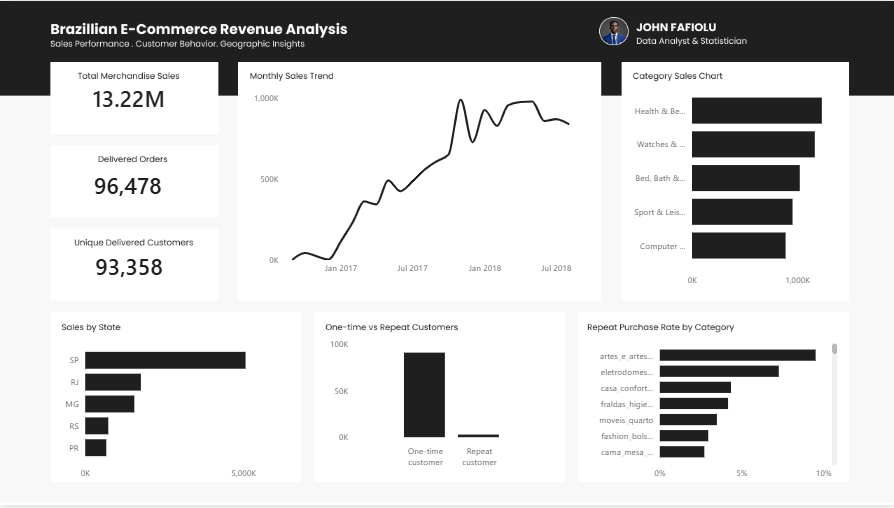

Layout of this report page (visuals, bound fields, positions):
{"tool":"powerbi","page":{"name":"Report Overview","canvas":[1280,720],"ordinal":0},"visuals":[{"type":"cardVisual","fields":{"Data":["Sum(monthly_sales.merchandise_sales)"]},"box":[72.3,90.7,223.9,93.5],"z":0},{"type":"cardVisual","fields":{"Data":["Sum(monthly_sales.delivered_orders)"]},"box":[66.6,214,231,95],"z":1000},{"type":"cardVisual","fields":{"Data":["Sum(customer_segment.total_customers)"]},"box":[70.9,326,226.8,103.5],"z":2000},{"type":"lineChart","fields":{"Category":["monthly_sales.order_month.Variation.Date Hierarchy.Year","monthly_sales.order_month.Variation.Date Hierarchy.Month"],"Y":["Sum(monthly_sales.merchandise_sales)"]},"box":[357.2,124.7,481.9,275],"z":3000},{"type":"clusteredBarChart","fields":{"Category":["category_sales.product_category"],"Y":["Sum(category_sales.merchandise_sales)"]},"box":[888.7,106.3,348.7,311.8],"z":4000},{"type":"clusteredBarChart","fields":{"Category":["state_sales.customer_state"],"Y":["Sum(state_sales.merchandise_sales)"]},"box":[85,476.2,330.2,216.9],"z":5000},{"type":"clusteredColumnChart","fields":{"Category":["customer_segment.customer_type"],"Y":["Sum(customer_segment.total_customers)"]},"box":[466.3,476.2,324.6,198.4],"z":6000},{"type":"clusteredBarChart","fields":{"Category":["category_repeat_purchase.product_category"],"Y":["Sum(category_repeat_purchase.repeat_purchase_rate_pct)"]},"box":[839.1,476.2,362.8,216.9],"z":7000}]}

Visuals, with their boxes in screenshot pixels (x1, y1, x2, y2), scaled from the page's 1280x720 canvas onto the 894x508 screenshot:
cardVisual - Sum(monthly_sales.merchandise_sales): left=50, top=64, right=207, bottom=130
cardVisual - Sum(monthly_sales.delivered_orders): left=47, top=151, right=208, bottom=218
cardVisual - Sum(customer_segment.total_customers): left=50, top=230, right=208, bottom=303
lineChart - monthly_sales.order_month.Variation.Date Hierarchy.Year x monthly_sales.order_month.Variation.Date Hierarchy.Month: left=249, top=88, right=586, bottom=282
clusteredBarChart - category_sales.product_category x Sum(category_sales.merchandise_sales): left=621, top=75, right=864, bottom=295
clusteredBarChart - state_sales.customer_state x Sum(state_sales.merchandise_sales): left=59, top=336, right=290, bottom=489
clusteredColumnChart - customer_segment.customer_type x Sum(customer_segment.total_customers): left=326, top=336, right=552, bottom=476
clusteredBarChart - category_repeat_purchase.product_category x Sum(category_repeat_purchase.repeat_purchase_rate_pct): left=586, top=336, right=839, bottom=489
